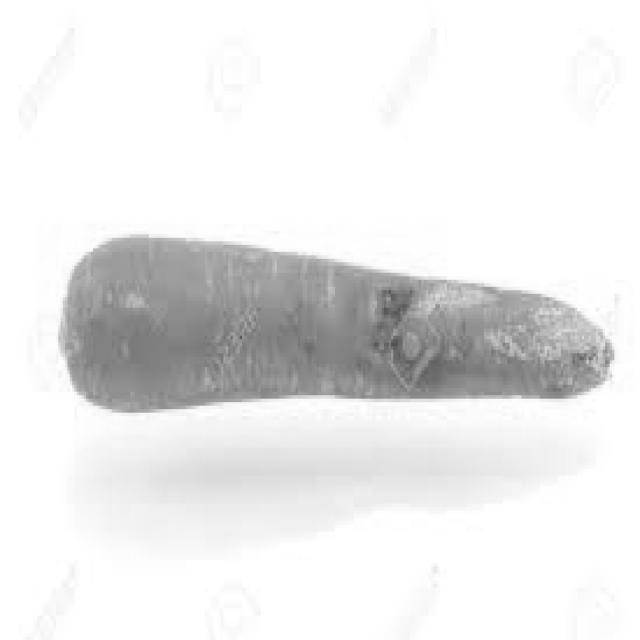Stale_Carrot: (58, 188, 621, 452)
